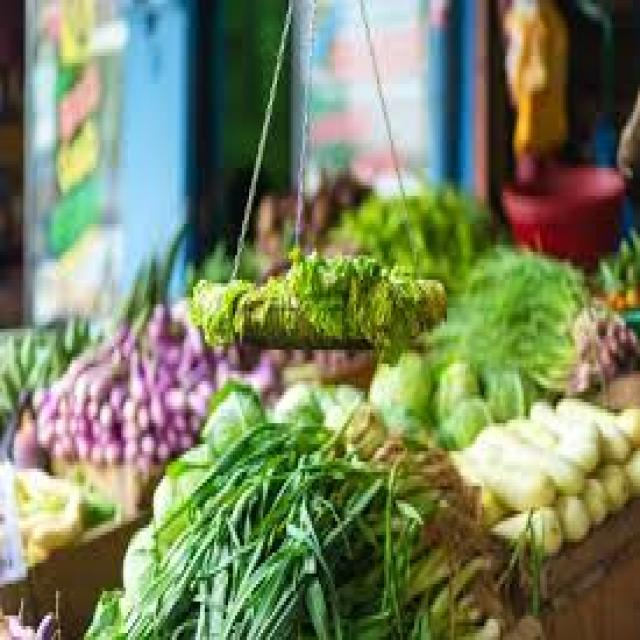organic waste: (84, 384, 500, 636), (442, 392, 638, 546), (31, 297, 202, 458), (466, 245, 614, 388), (328, 196, 494, 283), (365, 350, 524, 430), (0, 332, 98, 458), (179, 238, 410, 283), (160, 346, 372, 381), (572, 297, 638, 399), (598, 228, 638, 312)
